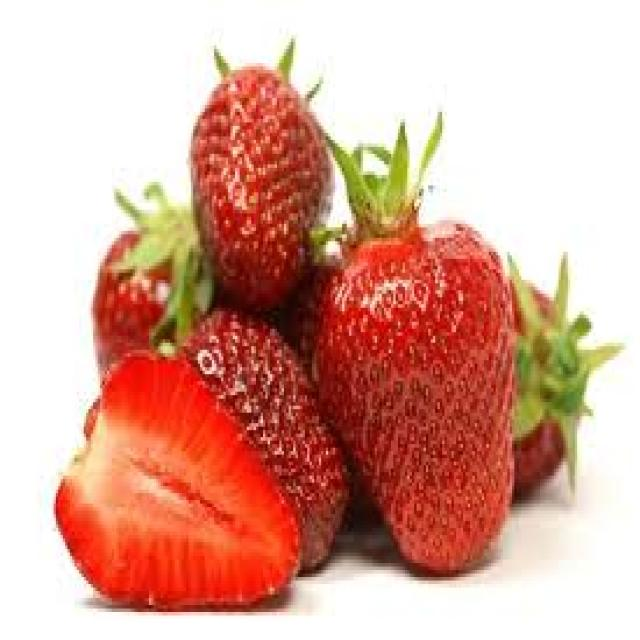srawberry: (44, 7, 617, 612)
